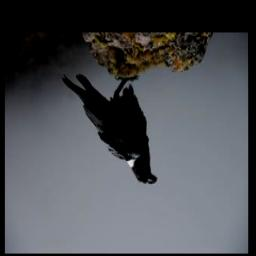Crow: (59, 69, 158, 190)
